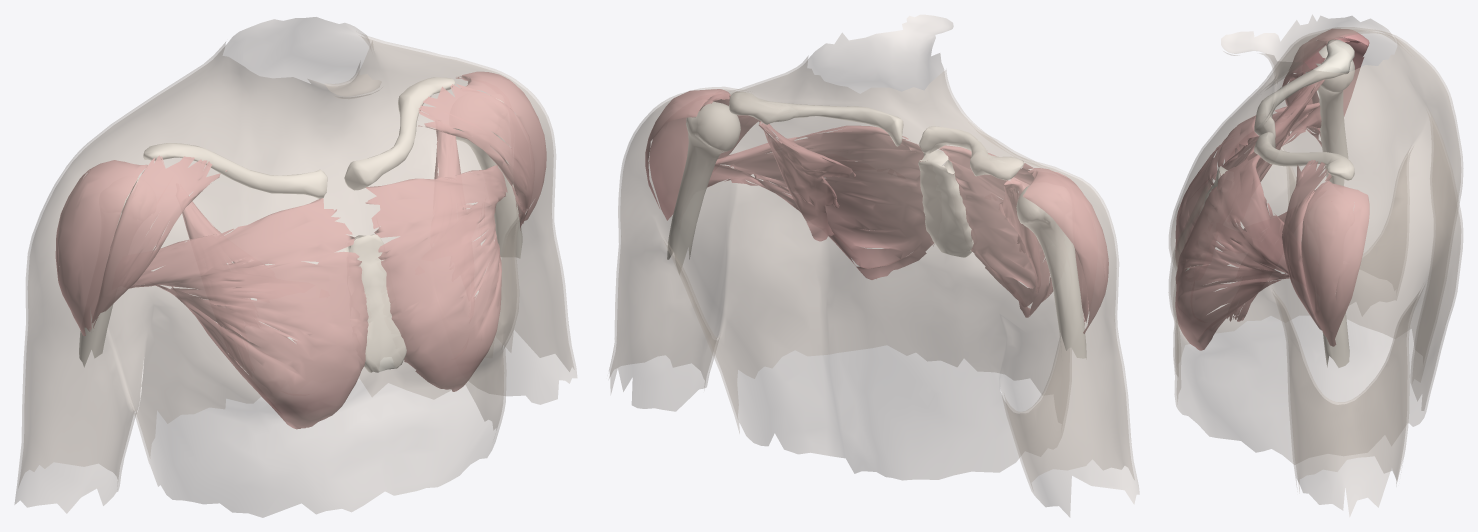
File: upper_torso.glb
3 views of the same model, side by side, from view 1: azimuth 30°, elevation 25°; view 2: azimuth 150°, elevation 25°; view 3: azimuth 270°, elevation 25° (orthographic). The views are drawn at different scales.
Parts seen in each view (by area): view 1: skin, pec_major_r, pec_major_l, deltoid_r2, deltoid_r, deltoid_l, sternum, clav_r, clav_l, deltoid_l2, hum_l, hum_r (+2 smaller); view 2: skin, pec_major_l, pec_major_r, deltoid_r2, hum_l, hum_r, deltoid_l2, pec_minor_l, sternum, clav_l, clav_r, pec_minor_r; view 3: skin, pec_major_l, deltoid_l2, pec_major_r, deltoid_l, clav_r, hum_r, clav_l, pec_minor_r, deltoid_r2, deltoid_r, hum_l (+1 smaller).
Boxes of the visible parts, x1,y1,x2,y2 form: skin: (14,17,577,517); pec_major_r: (129,198,368,429); pec_major_l: (365,165,507,391); deltoid_r2: (55,160,147,335); deltoid_r: (91,155,226,327); deltoid_l: (418,84,534,230); sternum: (345,234,406,372); clav_r: (143,143,327,198); clav_l: (344,77,454,190); deltoid_l2: (456,71,546,225); hum_l: (454,94,522,258); hum_r: (79,177,139,367); skin: (609,15,1139,516); pec_major_l: (707,125,933,279); pec_major_r: (939,145,1053,317); deltoid_r2: (1023,168,1108,333); hum_l: (667,101,740,274); hum_r: (1016,185,1086,360); deltoid_l2: (645,89,730,220); pec_minor_l: (759,120,855,241); sternum: (918,150,973,257); clav_l: (729,92,903,146); clav_r: (919,126,1023,180); pec_minor_r: (998,180,1041,293); skin: (1168,14,1463,516); pec_major_l: (1175,155,1301,350); deltoid_l2: (1301,180,1369,346); pec_major_r: (1175,102,1321,266); deltoid_l: (1282,160,1331,330); clav_r: (1254,39,1354,138); hum_r: (1305,45,1354,185); clav_l: (1254,132,1354,180); pec_minor_r: (1234,79,1324,222); deltoid_r2: (1308,29,1369,133); deltoid_r: (1282,40,1326,146); hum_l: (1322,293,1349,367).
Bounding box in the file's own units: 0.5239 × 0.3666 × 0.2708.
